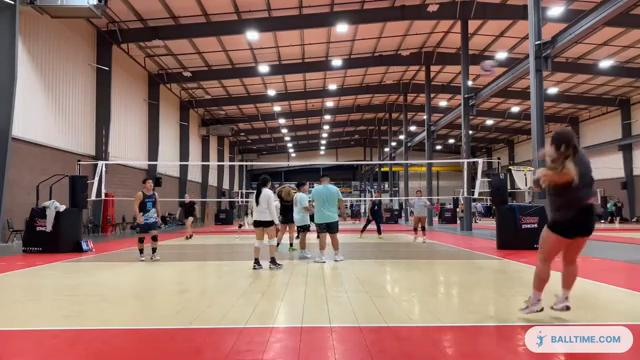Player: (311, 175, 343, 262), (252, 175, 281, 269), (134, 178, 159, 260), (293, 182, 313, 259), (359, 192, 382, 238), (410, 190, 429, 242), (177, 194, 196, 239)
Serve: (515, 123, 598, 313)
ball: (478, 58, 495, 76)
